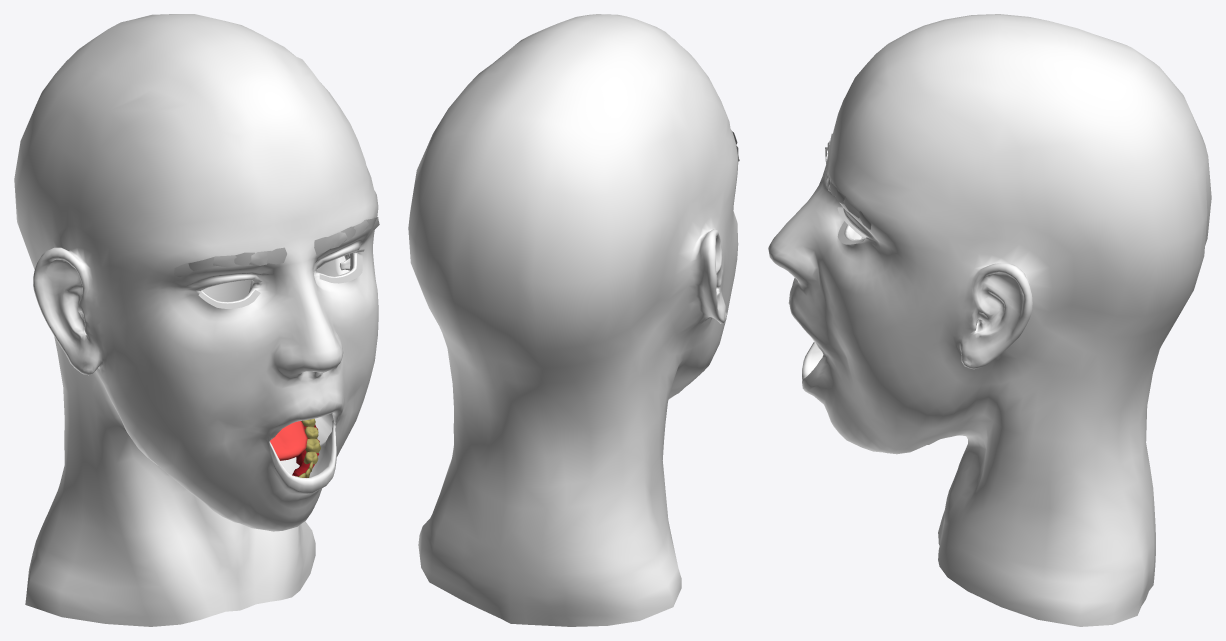
Rendered from jawOpen.obj.
3 renders of one model, left to right at view 1: azimuth 30°, elevation 25°; view 2: azimuth 150°, elevation 25°; view 3: azimuth 270°, elevation 25°, orthographic. The views are drawn at different scales.
Visible parts, largest first — view 1: FaceMesh_Plane.003; view 2: FaceMesh_Plane.003; view 3: FaceMesh_Plane.003.
Boxes of the visible parts, box(x1,y1,x2,y2) form: FaceMesh_Plane.003: box(14, 14, 379, 626); FaceMesh_Plane.003: box(408, 14, 739, 626); FaceMesh_Plane.003: box(768, 14, 1211, 626).
Bounding box in the file's own units: 1.54 × 2.71 × 1.95.
5 materials, 1 textured.
